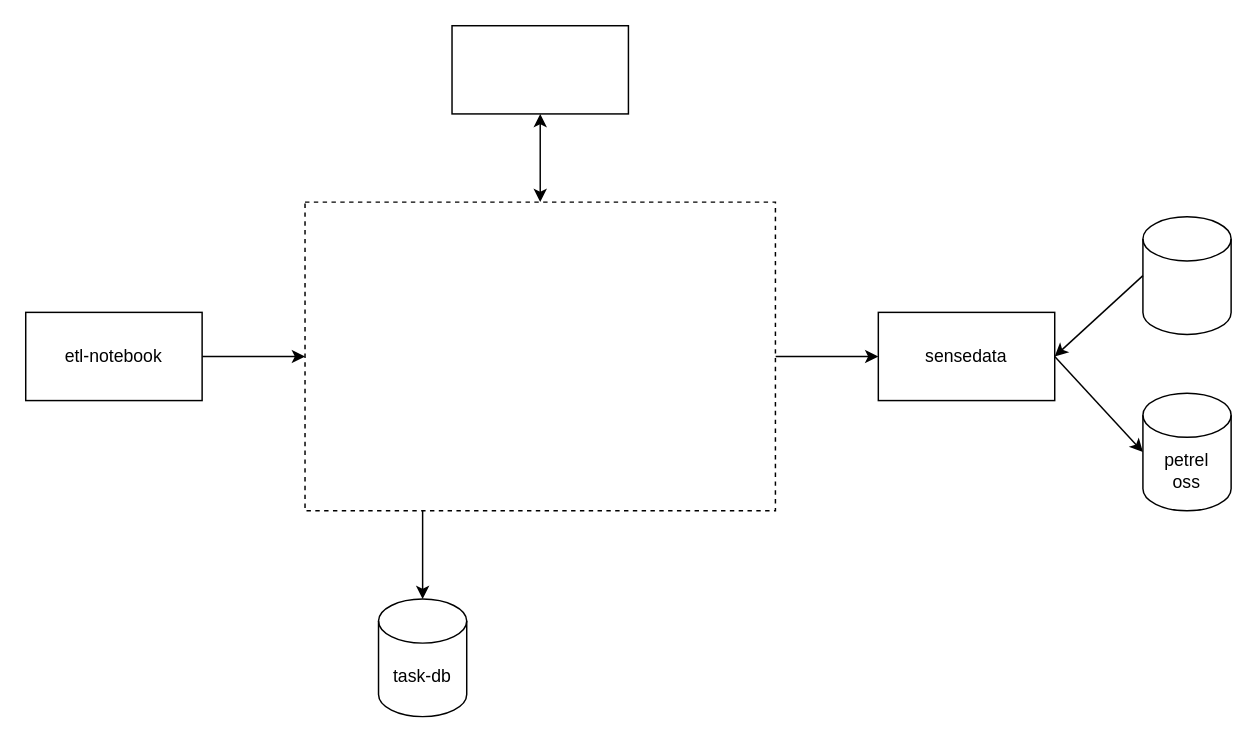
The diagram is 1257 pixels wide and 742 high, and some of its shapes have lost their labels. The box of each missing label's shape, as (x1, y1, x2, y2) in pixels:
Belt: (451, 24, 628, 114)
public oss: (1141, 215, 1231, 334)
